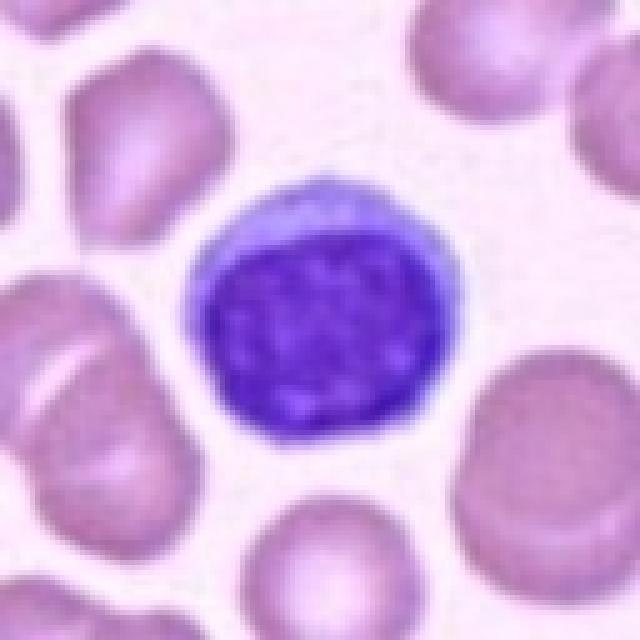lympho: (177, 162, 479, 451)
